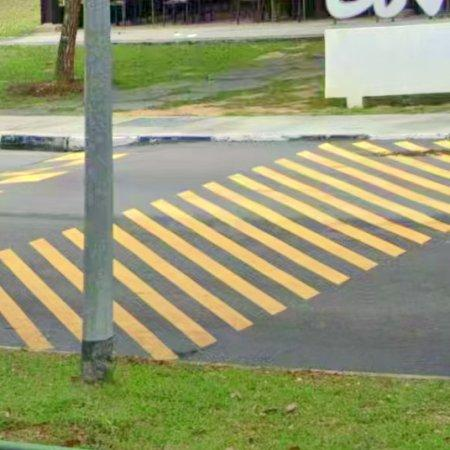crosswalks: (113, 141, 450, 360), (0, 228, 83, 351)
